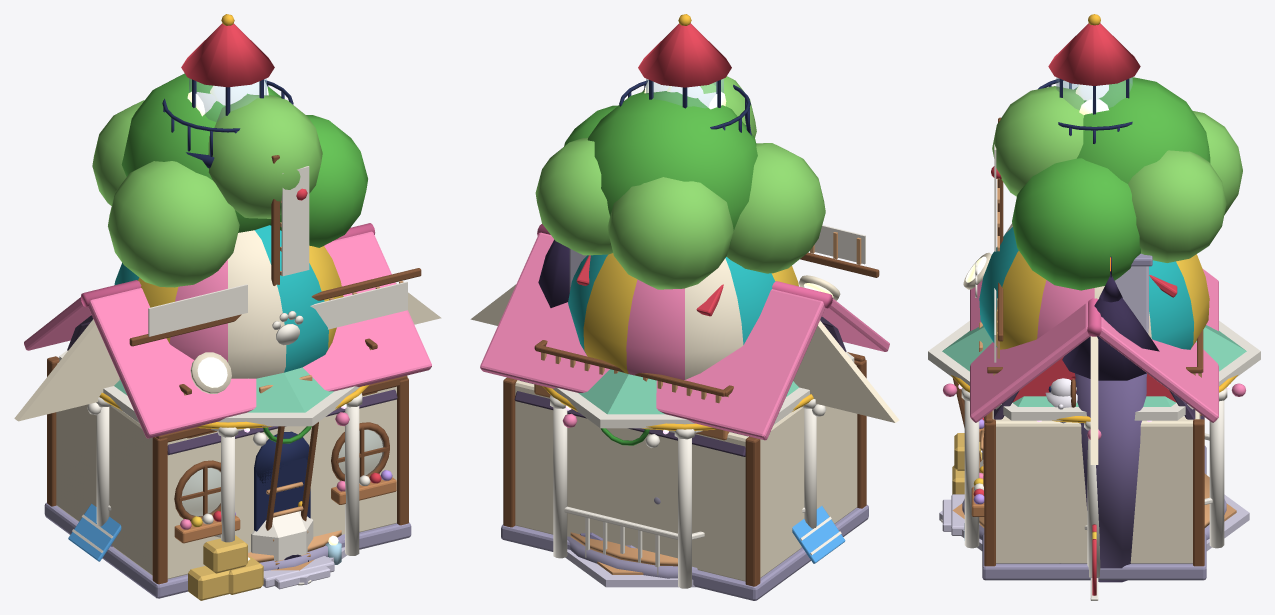
File: home.glb
3 views of the same model, side by side, from view 1: azimuth 30°, elevation 25°; view 2: azimuth 150°, elevation 25°; view 3: azimuth 270°, elevation 25° (orthographic).
Parts seen in each view (by area): view 1: Home_cottage_body, Home_treehouse_body, Home_balloon_envelope, Home_gazebo_body, Home_windmill_sails, Home_lighthouse_body, Home_barn_body, Home_igloo_body, Home_agility_body, Home_carousel_body, Home_carousel_ride, Home_lighthouse_beam; view 2: Home_cottage_body, Home_treehouse_body, Home_balloon_envelope, Home_gazebo_body, Home_lighthouse_body, Home_windmill_sails, Home_carousel_ride, Home_hauntedhouse_body, Home_agility_body, Home_barn_body, Home_carousel_body, Home_lighthouse_beam; view 3: Home_cottage_body, Home_treehouse_body, Home_gazebo_body, Home_hauntedhouse_body, Home_balloon_envelope, Home_lighthouse_body, Home_barn_body, Home_windmill_sails, Home_carousel_ride, Home_lighthouse_beam, Home_hauntedhouse_ghost, Home_carousel_body (+1 smaller).
Boxes of the visible parts, bbox=[...] form: Home_cottage_body: bbox=[14, 223, 441, 598]; Home_treehouse_body: bbox=[92, 73, 377, 564]; Home_balloon_envelope: bbox=[114, 225, 343, 378]; Home_gazebo_body: bbox=[59, 350, 362, 584]; Home_windmill_sails: bbox=[129, 155, 421, 378]; Home_lighthouse_body: bbox=[162, 14, 293, 168]; Home_barn_body: bbox=[67, 315, 397, 600]; Home_igloo_body: bbox=[248, 511, 341, 569]; Home_agility_body: bbox=[68, 503, 121, 561]; Home_carousel_body: bbox=[259, 534, 344, 589]; Home_carousel_ride: bbox=[99, 384, 369, 562]; Home_lighthouse_beam: bbox=[187, 80, 268, 116]; Home_cottage_body: bbox=[470, 224, 899, 600]; Home_treehouse_body: bbox=[534, 76, 825, 440]; Home_balloon_envelope: bbox=[568, 253, 798, 379]; Home_gazebo_body: bbox=[550, 352, 854, 588]; Home_lighthouse_body: bbox=[619, 14, 751, 135]; Home_windmill_sails: bbox=[800, 225, 879, 277]; Home_carousel_ride: bbox=[542, 386, 813, 566]; Home_hauntedhouse_body: bbox=[538, 239, 569, 307]; Home_agility_body: bbox=[792, 506, 845, 563]; Home_barn_body: bbox=[514, 316, 846, 456]; Home_carousel_body: bbox=[567, 536, 697, 578]; Home_lighthouse_beam: bbox=[644, 80, 726, 109]; Home_cottage_body: bbox=[951, 252, 1218, 580]; Home_treehouse_body: bbox=[953, 77, 1242, 472]; Home_gazebo_body: bbox=[928, 321, 1260, 577]; Home_hauntedhouse_body: bbox=[1062, 256, 1159, 582]; Home_balloon_envelope: bbox=[975, 223, 1209, 349]; Home_lighthouse_body: bbox=[1038, 14, 1140, 143]; Home_barn_body: bbox=[952, 357, 1204, 494]; Home_windmill_sails: bbox=[994, 117, 1003, 362]; Home_carousel_ride: bbox=[951, 375, 1237, 527]; Home_lighthouse_beam: bbox=[1075, 84, 1108, 114]; Home_hauntedhouse_ghost: bbox=[1045, 378, 1077, 423]; Home_carousel_body: bbox=[942, 499, 1226, 539].
Bounding box in the file's own units: 7.3 × 8.62 × 5.04.
